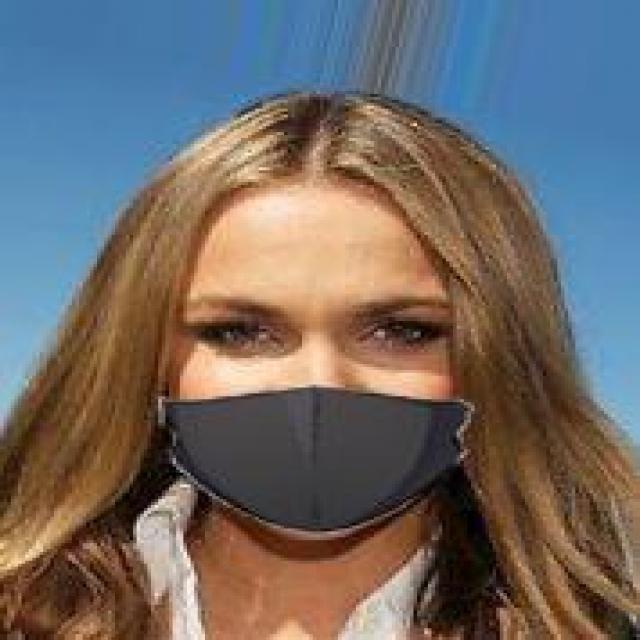mask: (76, 88, 550, 567)
